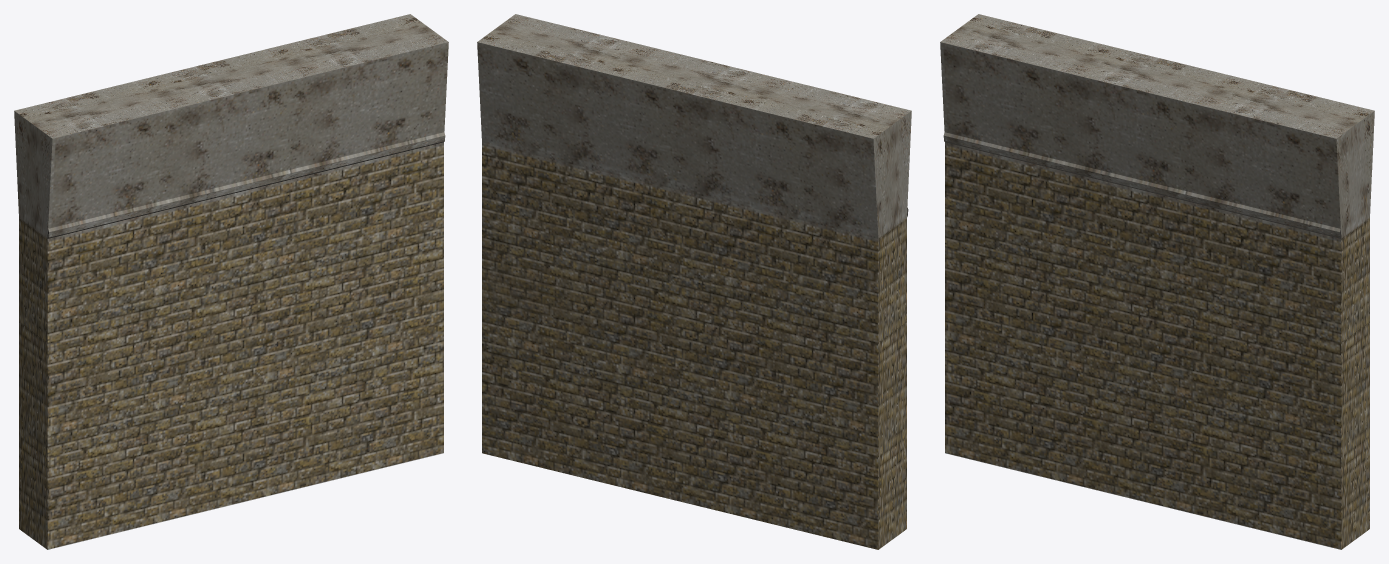
Rendered from basicwall.fbx.
3 views of the same model, side by side, from view 1: azimuth 30°, elevation 25°; view 2: azimuth 150°, elevation 25°; view 3: azimuth 330°, elevation 25° (orthographic).
Parts seen in each view (by area): view 1: Cube; view 2: Cube; view 3: Cube.
Part boxes in pixels (x1,y1,x2,y2): Cube: (14, 14, 448, 549); Cube: (477, 14, 911, 549); Cube: (940, 14, 1374, 549).
Bounding box in the file's own units: 400 × 400 × 67.09.
1 material, 1 textured.
